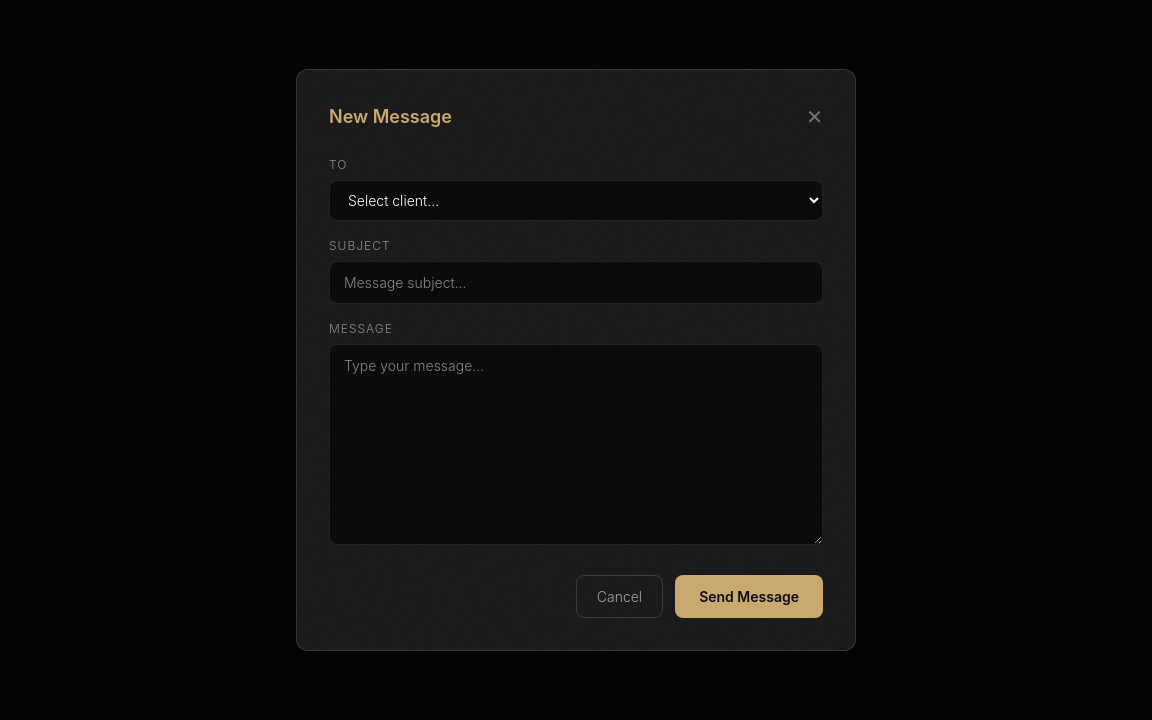
Test: ComposeMessage › shows error when submitting empty fields
Click the button "Send Message" at (749, 597), box [675,575,823,618]
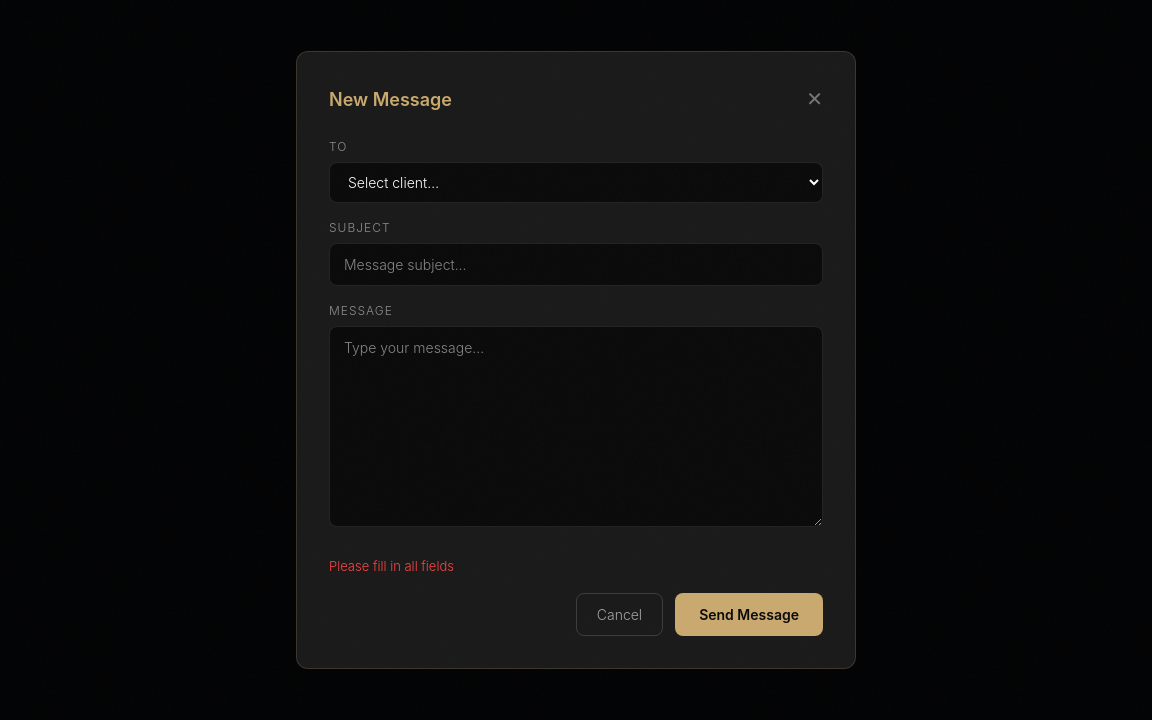
Now the text "Please fill in all fields" is shown, box [329,558,454,574]
